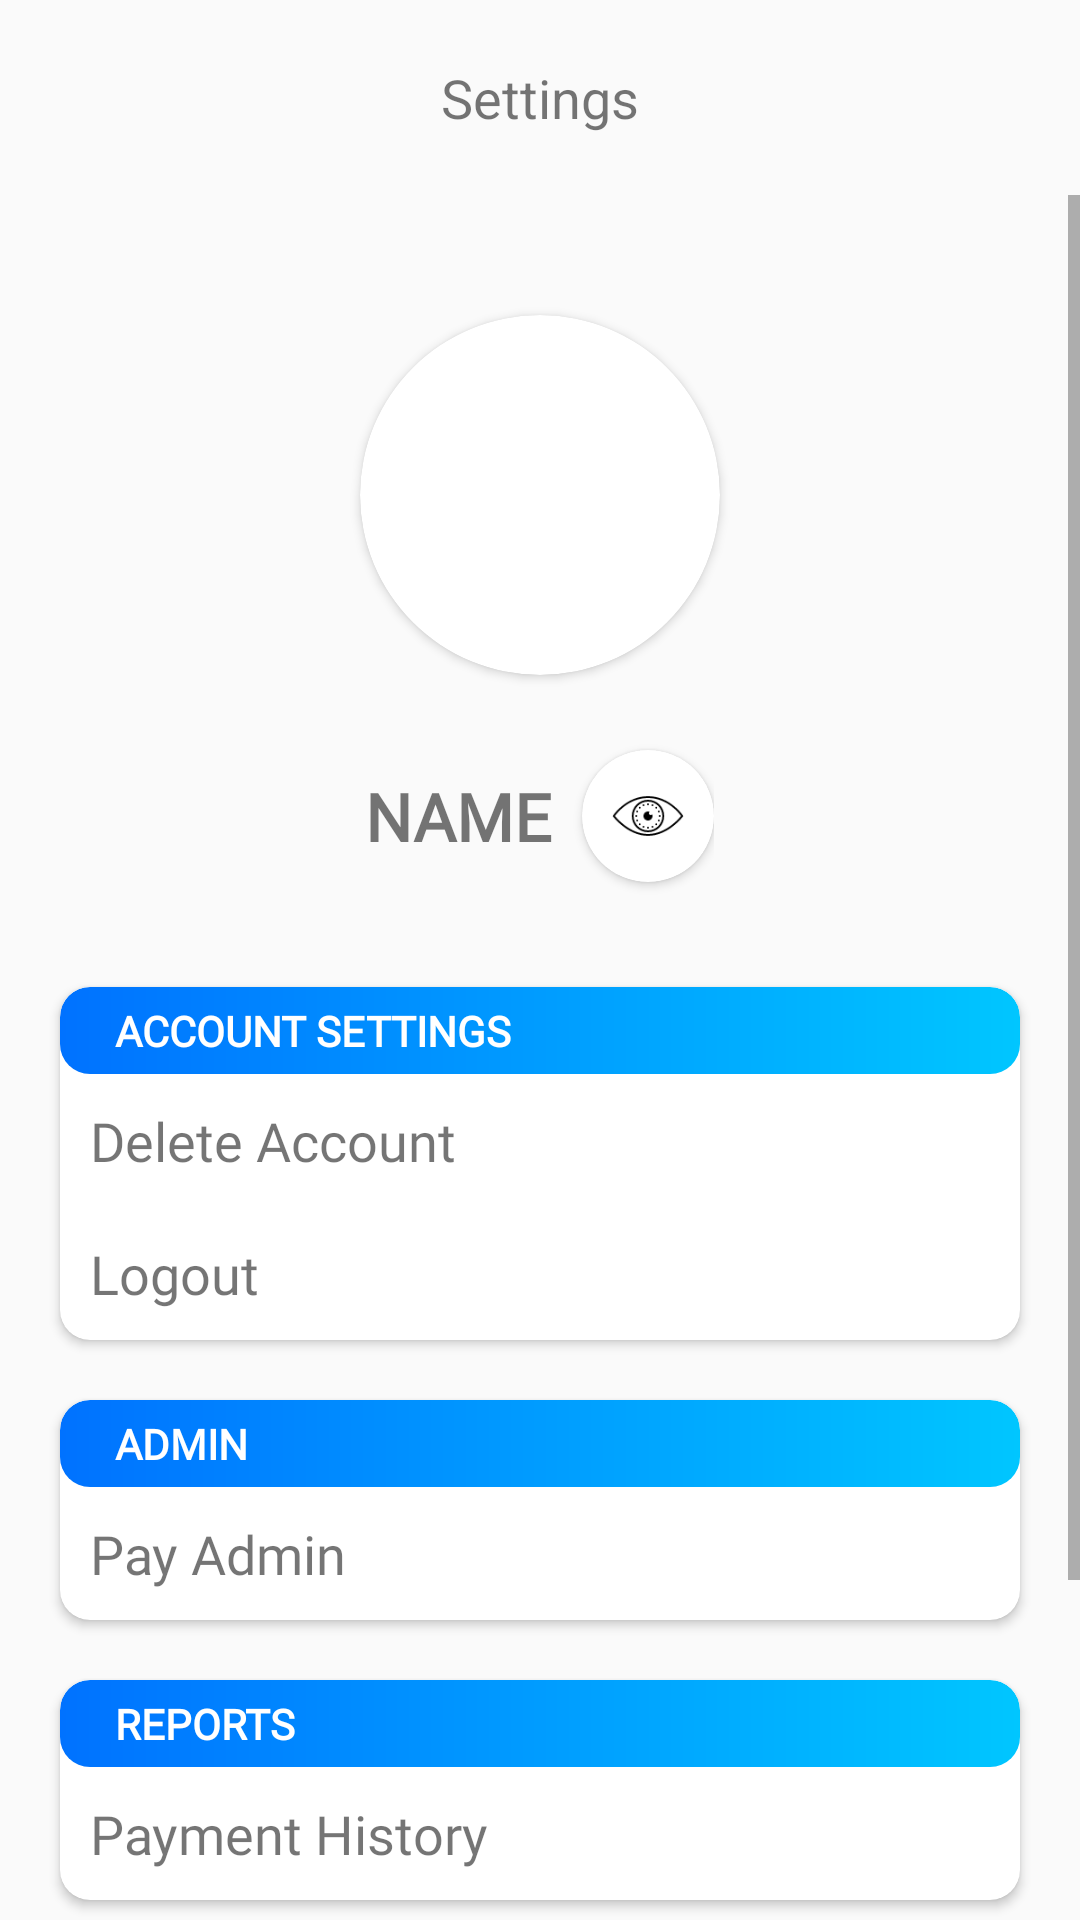

Screen size 1080×1920. Icon name, then its center in pixels as point (x, y):
view: point (648, 816)
